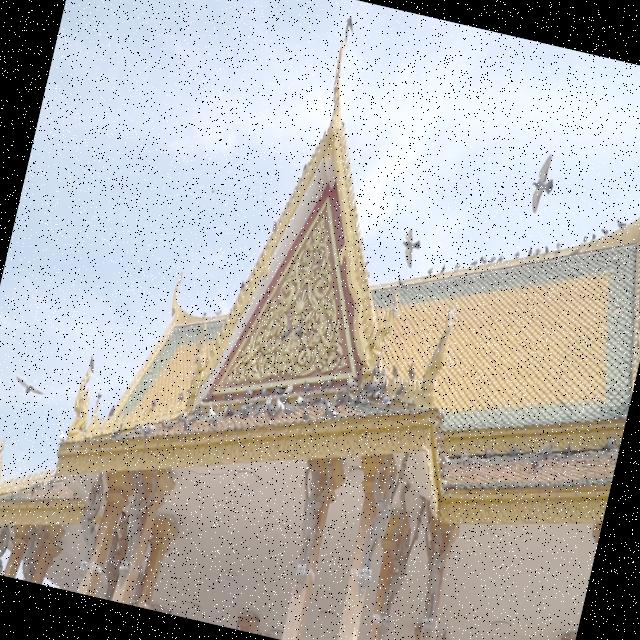bird: (524, 149, 561, 217), (396, 226, 424, 270), (399, 360, 425, 406), (12, 374, 46, 399), (86, 354, 98, 376), (425, 264, 434, 276)
